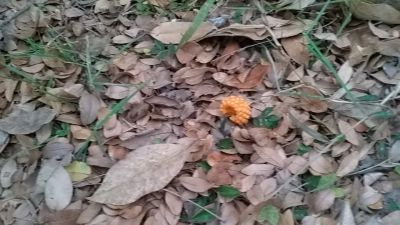eggs: (219, 95, 254, 125)
